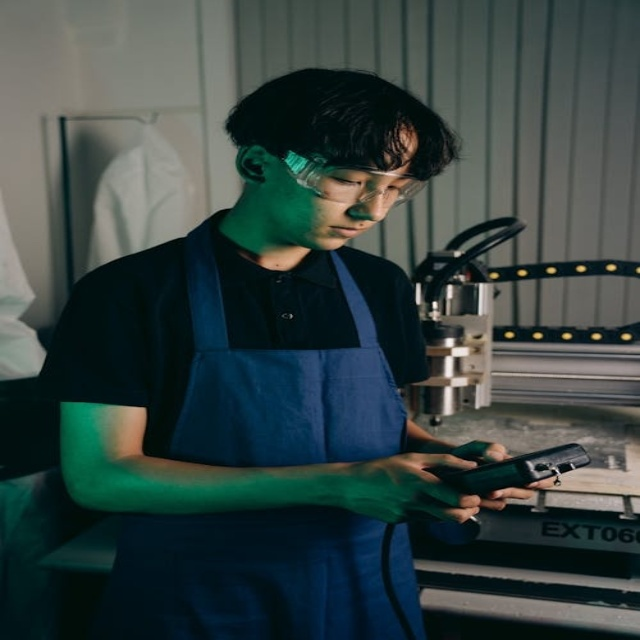Gafas: (275, 148, 426, 209)
Sin_guantes: (335, 442, 474, 527), (436, 434, 561, 515)
Sin_mascara: (305, 216, 374, 251)
